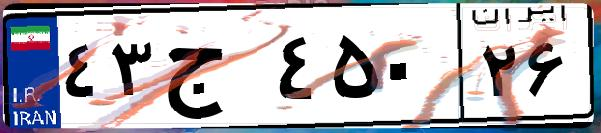0: (385, 28, 445, 110)
2: (475, 38, 525, 113)
3: (110, 28, 158, 98)
4: (270, 28, 330, 110), (57, 26, 110, 100)
5: (330, 28, 385, 110)
6: (525, 38, 570, 115)
ج: (158, 20, 270, 120)
